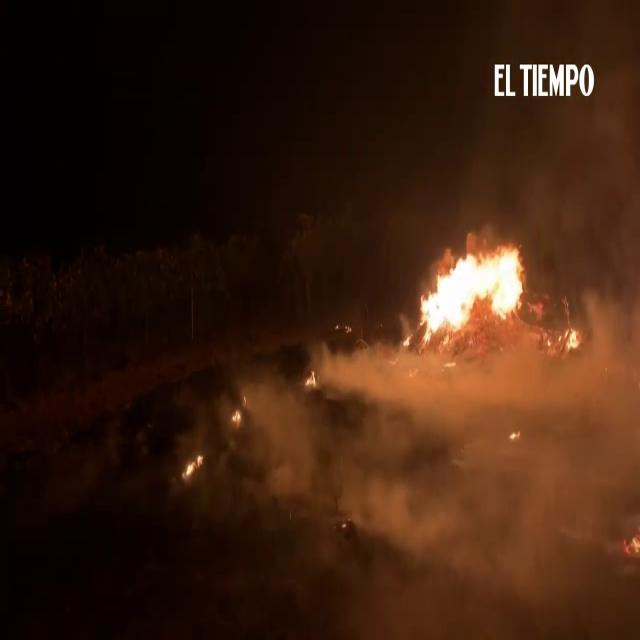Fire: (424, 244, 535, 324)
Smoke: (331, 342, 621, 542)
